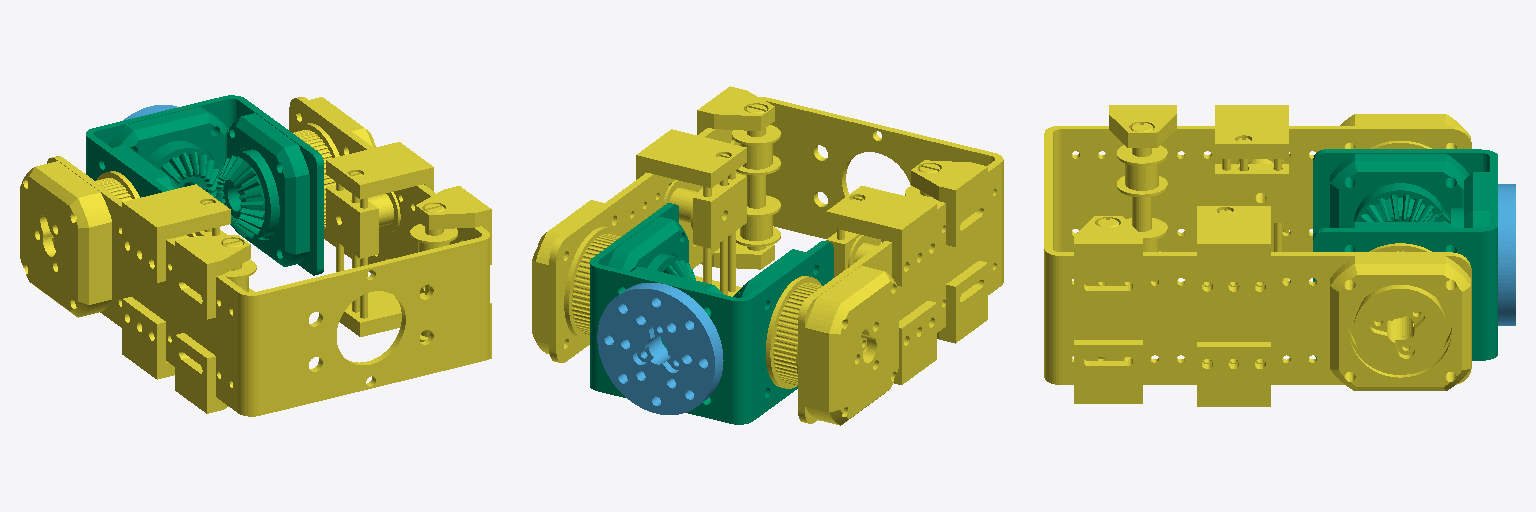
The robot description file, URDF, robot "sdrac":
<?xml version="1.0" ?>
<robot name="sdrac"
  xmlns:xacro="http://www.ros.org/wiki/xacro">

  <link name="sdrac_base_link">
    <inertial>
      <origin xyz="0.0007676297507278628 -0.0401979471190537 -0.07247627153798698" rpy="0 0 0"/>
      <mass value="7.266183830201463"/>
      <inertia ixx="0.042911" iyy="0.025602" izz="0.040767" ixy="1.9e-05" iyz="0.002898" ixz="3.4e-05"/>
    </inertial>
    <visual>
      <origin xyz="0 0 0" rpy="0 0 0"/>
      <geometry>
        <mesh filename="package://sdrac_description/meshes/base_link.stl" scale="0.001 0.001 0.001"/>
      </geometry>
      <material name="silver"/>
    </visual>
    <collision>
      <origin xyz="0 0 0" rpy="0 0 0"/>
      <geometry>
        <mesh filename="package://sdrac_description/meshes/base_link.stl" scale="0.001 0.001 0.001"/>
      </geometry>
    </collision>
  </link>

  <link name="axis6_1">
    <inertial>
      <origin xyz="-3.2764962736714365e-07 0.007225961258404967 4.800782223424171e-07" rpy="0 0 0"/>
      <mass value="0.10979080097486817"/>
      <inertia ixx="1.7e-05" iyy="3.1e-05" izz="1.7e-05" ixy="0.0" iyz="-0.0" ixz="0.0"/>
    </inertial>
    <visual>
      <origin xyz="-0.012473 -0.406993 -0.442572" rpy="0 0 0"/>
      <geometry>
        <mesh filename="package://sdrac_description/meshes/axis6_1.stl" scale="0.001 0.001 0.001"/>
      </geometry>
      <material name="silver"/>
    </visual>
    <collision>
      <origin xyz="-0.012473 -0.406993 -0.442572" rpy="0 0 0"/>
      <geometry>
        <mesh filename="package://sdrac_description/meshes/axis6_1.stl" scale="0.001 0.001 0.001"/>
      </geometry>
    </collision>
  </link>

  <link name="axis5_1">
    <inertial>
      <origin xyz="-0.03528372301420105 0.007984462855355978 -2.301358929873709e-05" rpy="0 0 0"/>
      <mass value="0.6457180123589406"/>
      <inertia ixx="0.000274" iyy="0.00046" izz="0.000525" ixy="-0.0" iyz="0.0" ixz="0.0"/>
    </inertial>
    <visual>
      <origin xyz="-0.047695 -0.378593 -0.442572" rpy="0 0 0"/>
      <geometry>
        <mesh filename="package://sdrac_description/meshes/axis5_1.stl" scale="0.001 0.001 0.001"/>
      </geometry>
      <material name="silver"/>
    </visual>
    <collision>
      <origin xyz="-0.047695 -0.378593 -0.442572" rpy="0 0 0"/>
      <geometry>
        <mesh filename="package://sdrac_description/meshes/axis5_1.stl" scale="0.001 0.001 0.001"/>
      </geometry>
    </collision>
  </link>

  <link name="axis4_1">
    <inertial>
      <origin xyz="-0.0029650358586139486 0.08099752059061327 0.0005687278418848862" rpy="0 0 0"/>
      <mass value="1.4547009998705278"/>
      <inertia ixx="0.003373" iyy="0.003899" izz="0.006431" ixy="0.000284" iyz="1e-05" ixz="-7e-06"/>
    </inertial>
    <visual>
      <origin xyz="-0.012523 -0.253593 -0.442483" rpy="0 0 0"/>
      <geometry>
        <mesh filename="package://sdrac_description/meshes/axis4_1.stl" scale="0.001 0.001 0.001"/>
      </geometry>
      <material name="silver"/>
    </visual>
    <collision>
      <origin xyz="-0.012523 -0.253593 -0.442483" rpy="0 0 0"/>
      <geometry>
        <mesh filename="package://sdrac_description/meshes/axis4_1.stl" scale="0.001 0.001 0.001"/>
      </geometry>
    </collision>
  </link>

  <link name="axis3_1">
    <inertial>
      <origin xyz="0.03672804039185374 0.0285707721138165 6.804105387614445e-05" rpy="0 0 0"/>
      <mass value="6.81811167715887"/>
      <inertia ixx="0.095496" iyy="0.012182" izz="0.090479" ixy="0.00499" iyz="8e-06" ixz="1.2e-05"/>
    </inertial>
    <visual>
      <origin xyz="0.015477 -0.003593 -0.442483" rpy="0 0 0"/>
      <geometry>
        <mesh filename="package://sdrac_description/meshes/axis3_1.stl" scale="0.001 0.001 0.001"/>
      </geometry>
      <material name="silver"/>
    </visual>
    <collision>
      <origin xyz="0.015477 -0.003593 -0.442483" rpy="0 0 0"/>
      <geometry>
        <mesh filename="package://sdrac_description/meshes/axis3_1.stl" scale="0.001 0.001 0.001"/>
      </geometry>
    </collision>
  </link>

  <link name="axis2_1">
    <inertial>
      <origin xyz="-0.014859534190087398 0.001937092553890222 0.2124106500084152" rpy="0 0 0"/>
      <mass value="5.242525173026436"/>
      <inertia ixx="0.123514" iyy="0.123984" izz="0.007347" ixy="8.7e-05" iyz="-0.001162" ixz="0.002305"/>
    </inertial>
    <visual>
      <origin xyz="0.031477 -0.0 -0.0675" rpy="0 0 0"/>
      <geometry>
        <mesh filename="package://sdrac_description/meshes/axis2_1.stl" scale="0.001 0.001 0.001"/>
      </geometry>
      <material name="silver"/>
    </visual>
    <collision>
      <origin xyz="0.031477 -0.0 -0.0675" rpy="0 0 0"/>
      <geometry>
        <mesh filename="package://sdrac_description/meshes/axis2_1.stl" scale="0.001 0.001 0.001"/>
      </geometry>
    </collision>
  </link>

  <link name="axis1_1">
    <inertial>
      <origin xyz="0.03695342780989438 -0.02790466291042681 0.06526325347192152" rpy="0 0 0"/>
      <mass value="3.7267506867826663"/>
      <inertia ixx="0.010468" iyy="0.012637" izz="0.01758" ixy="0.005587" iyz="0.000281" ixz="-0.00038"/>
    </inertial>
    <visual>
      <origin xyz="-0.000523 0.0 0.0005" rpy="0 0 0"/>
      <geometry>
        <mesh filename="package://sdrac_description/meshes/axis1_1.stl" scale="0.001 0.001 0.001"/>
      </geometry>
      <material name="silver"/>
    </visual>
    <collision>
      <origin xyz="-0.000523 0.0 0.0005" rpy="0 0 0"/>
      <geometry>
        <mesh filename="package://sdrac_description/meshes/axis1_1.stl" scale="0.001 0.001 0.001"/>
      </geometry>
    </collision>
  </link>

  <joint name="Rev6" type="continuous">
    <origin xyz="-0.035222 0.0284 0.0" rpy="0 0 0"/>
    <parent link="axis5_1"/>
    <child link="axis6_1"/>
    <axis xyz="0.0 1.0 0.0"/>
  </joint>

  <joint name="Rev5" type="continuous">
    <origin xyz="0.035172 0.125 8.9e-05" rpy="0 0 0"/>
    <parent link="axis4_1"/>
    <child link="axis5_1"/>
    <axis xyz="1.0 0.0 -0.0"/>
  </joint>

  <joint name="Rev4" type="continuous">
    <origin xyz="0.028 0.25 0.0" rpy="0 0 0"/>
    <parent link="axis3_1"/>
    <child link="axis4_1"/>
    <axis xyz="0.0 1.0 0.0"/>
  </joint>

  <joint name="Rev3" type="continuous">
    <origin xyz="0.016 0.003593 0.374983" rpy="0 0 0"/>
    <parent link="axis2_1"/>
    <child link="axis3_1"/>
    <axis xyz="1.0 0.0 0.0"/>
  </joint>

  <joint name="Rev2" type="continuous">
    <origin xyz="-0.032 0.0 0.068" rpy="0 0 0"/>
    <parent link="axis1_1"/>
    <child link="axis2_1"/>
    <axis xyz="1.0 0.0 0.0"/>
  </joint>

  <joint name="Rev1" type="continuous">
    <origin xyz="0.000523 0.0 -0.0005" rpy="0 0 0"/>
    <parent link="sdrac_base_link"/>
    <child link="axis1_1"/>
    <axis xyz="0.0 -0.0 -1.0"/>
  </joint>


</robot>

--- What the picture shows (computed from the rendered views, not written in the file) ---
3 views of the same robot in one strip: view 1: azimuth 30°, elevation 25°; view 2: azimuth 150°, elevation 25°; view 3: azimuth 270°, elevation 25° (orthographic).
Model sdrac with 7 links and 6 joints (6 continuous), rooted at sdrac_base_link, posed all joints at 0.
Visible links, largest first — view 1: axis4_1, axis5_1; view 2: axis4_1, axis5_1, axis6_1; view 3: axis4_1, axis5_1, axis6_1.
Link boxes in pixels (x1=…): axis4_1: x1=20, y1=97, x2=491, y2=416; axis5_1: x1=86, y1=95, x2=323, y2=275; axis4_1: x1=532, y1=86, x2=1003, y2=425; axis5_1: x1=590, y1=203, x2=833, y2=424; axis6_1: x1=597, y1=283, x2=723, y2=414; axis4_1: x1=1044, y1=105, x2=1471, y2=406; axis5_1: x1=1313, y1=149, x2=1497, y2=360; axis6_1: x1=1498, y1=184, x2=1515, y2=325.
Bounding box of the posed robot: 0.1303 × 0.1654 × 0.0635 m (x, y, z).
3 mesh visuals loaded from 7 distinct referenced files (3 binary STL); not drawn: 4 (reference not matched to a file when rendering).